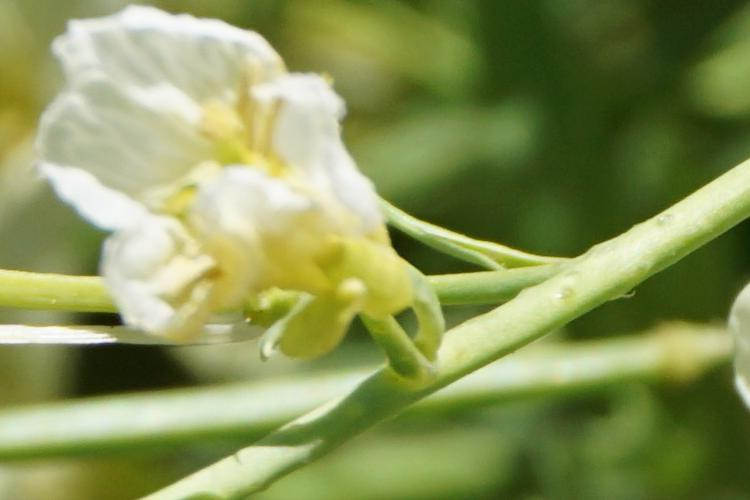white: (51, 48, 449, 356)
